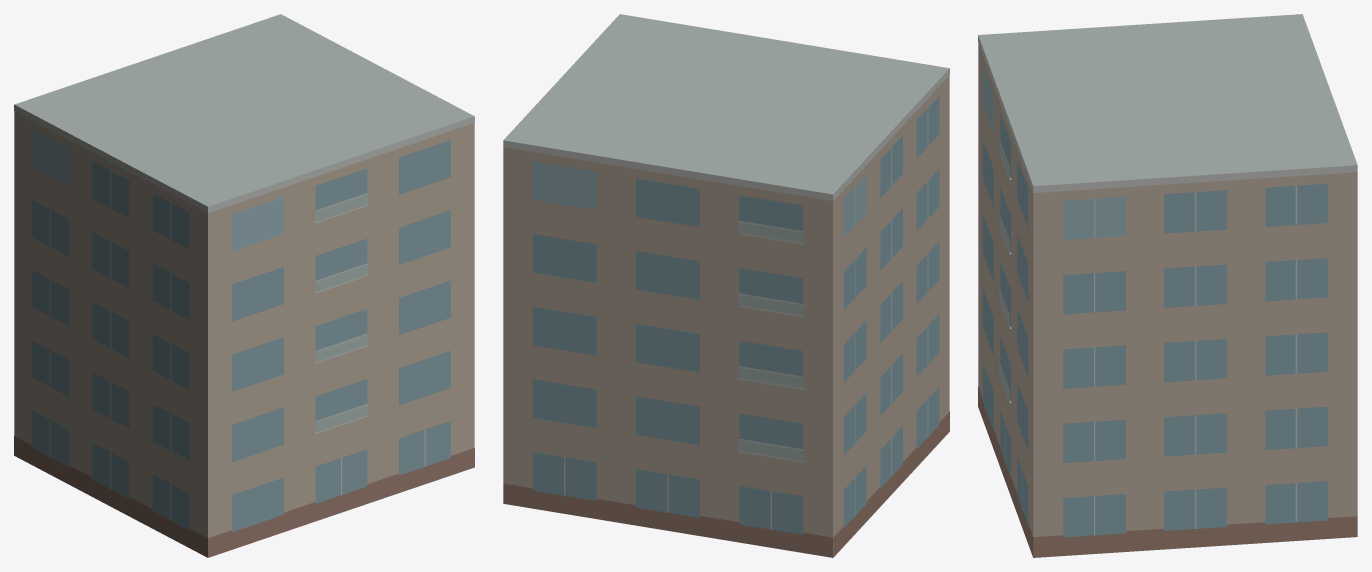
The model's file is survey-upis-32711849.glb.
The picture shows the model from 3 angles, left to right: view 1: azimuth 30°, elevation 25°; view 2: azimuth 150°, elevation 25°; view 3: azimuth 270°, elevation 25°; orthographic projection. The views are drawn at different scales.
Visible parts, largest first — view 1: survey-upis-32711849.tmp; view 2: survey-upis-32711849.tmp; view 3: survey-upis-32711849.tmp.
Boxes of the visible parts, bbox=[...] form: survey-upis-32711849.tmp: bbox=[14, 14, 474, 557]; survey-upis-32711849.tmp: bbox=[503, 14, 949, 557]; survey-upis-32711849.tmp: bbox=[978, 14, 1357, 557].
Size of the model in its own units: 13.03 by 13.1 by 12.14.
